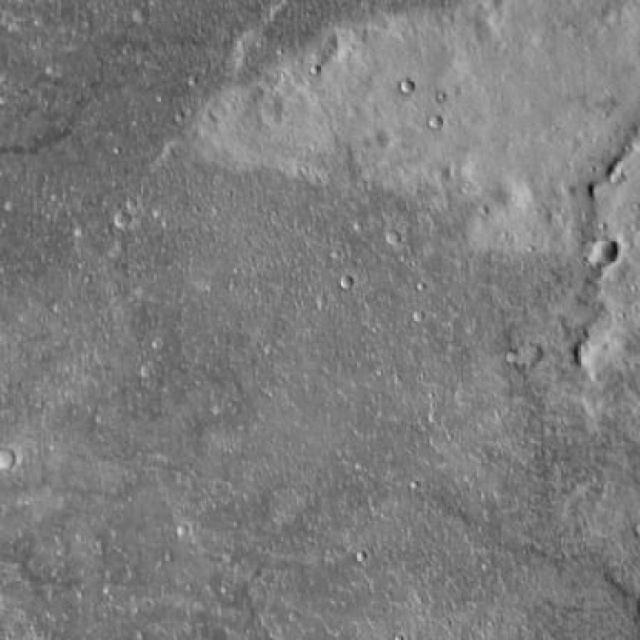crater: (587, 244, 613, 268), (515, 348, 539, 372), (108, 208, 124, 224)
